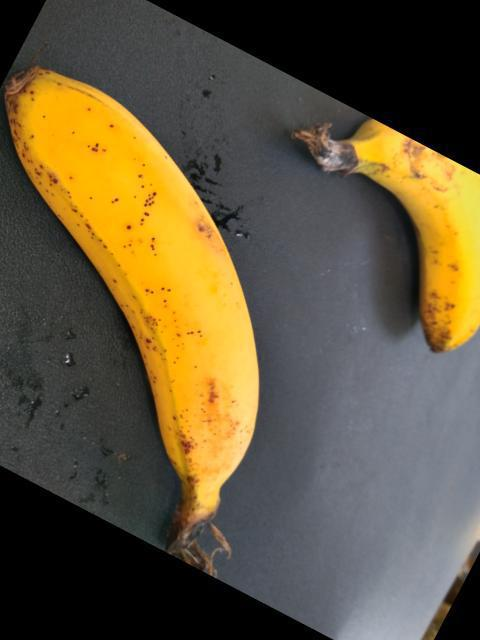ripe: (0, 30, 264, 518), (321, 105, 479, 376)
